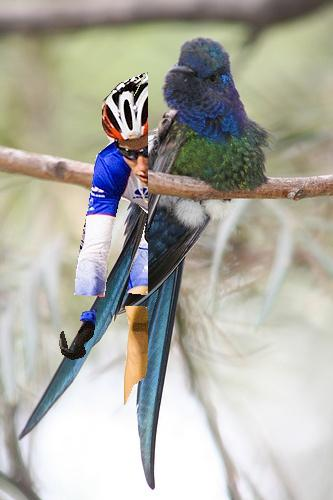tampered: (60, 71, 148, 405)
